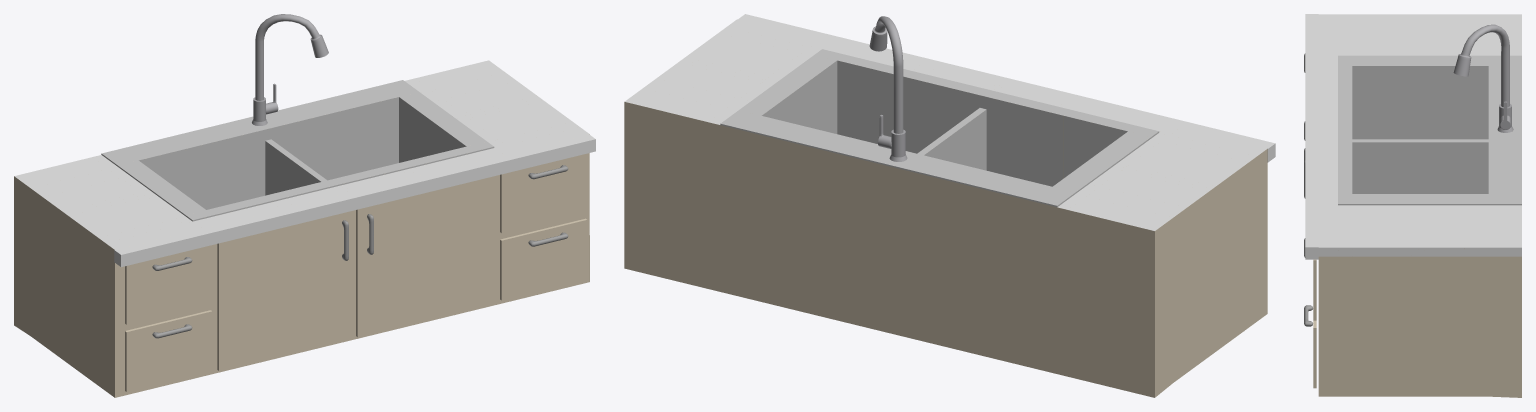
File: kitchen_countertopNEWEST.fbx
3 views of the same model, side by side, from view 1: azimuth 30°, elevation 25°; view 2: azimuth 150°, elevation 25°; view 3: azimuth 270°, elevation 25° (orthographic). The views are drawn at different scales.
Parts seen in each view (by area): view 1: kitchen_countertop; view 2: kitchen_countertop; view 3: kitchen_countertop.
Boxes of the visible parts, x1,y1,x2,y2 form: kitchen_countertop: (14, 14, 595, 397); kitchen_countertop: (624, 14, 1275, 397); kitchen_countertop: (1304, 14, 1521, 397).
Size of the model in its own units: 23.59 by 12.41 by 9.29.
